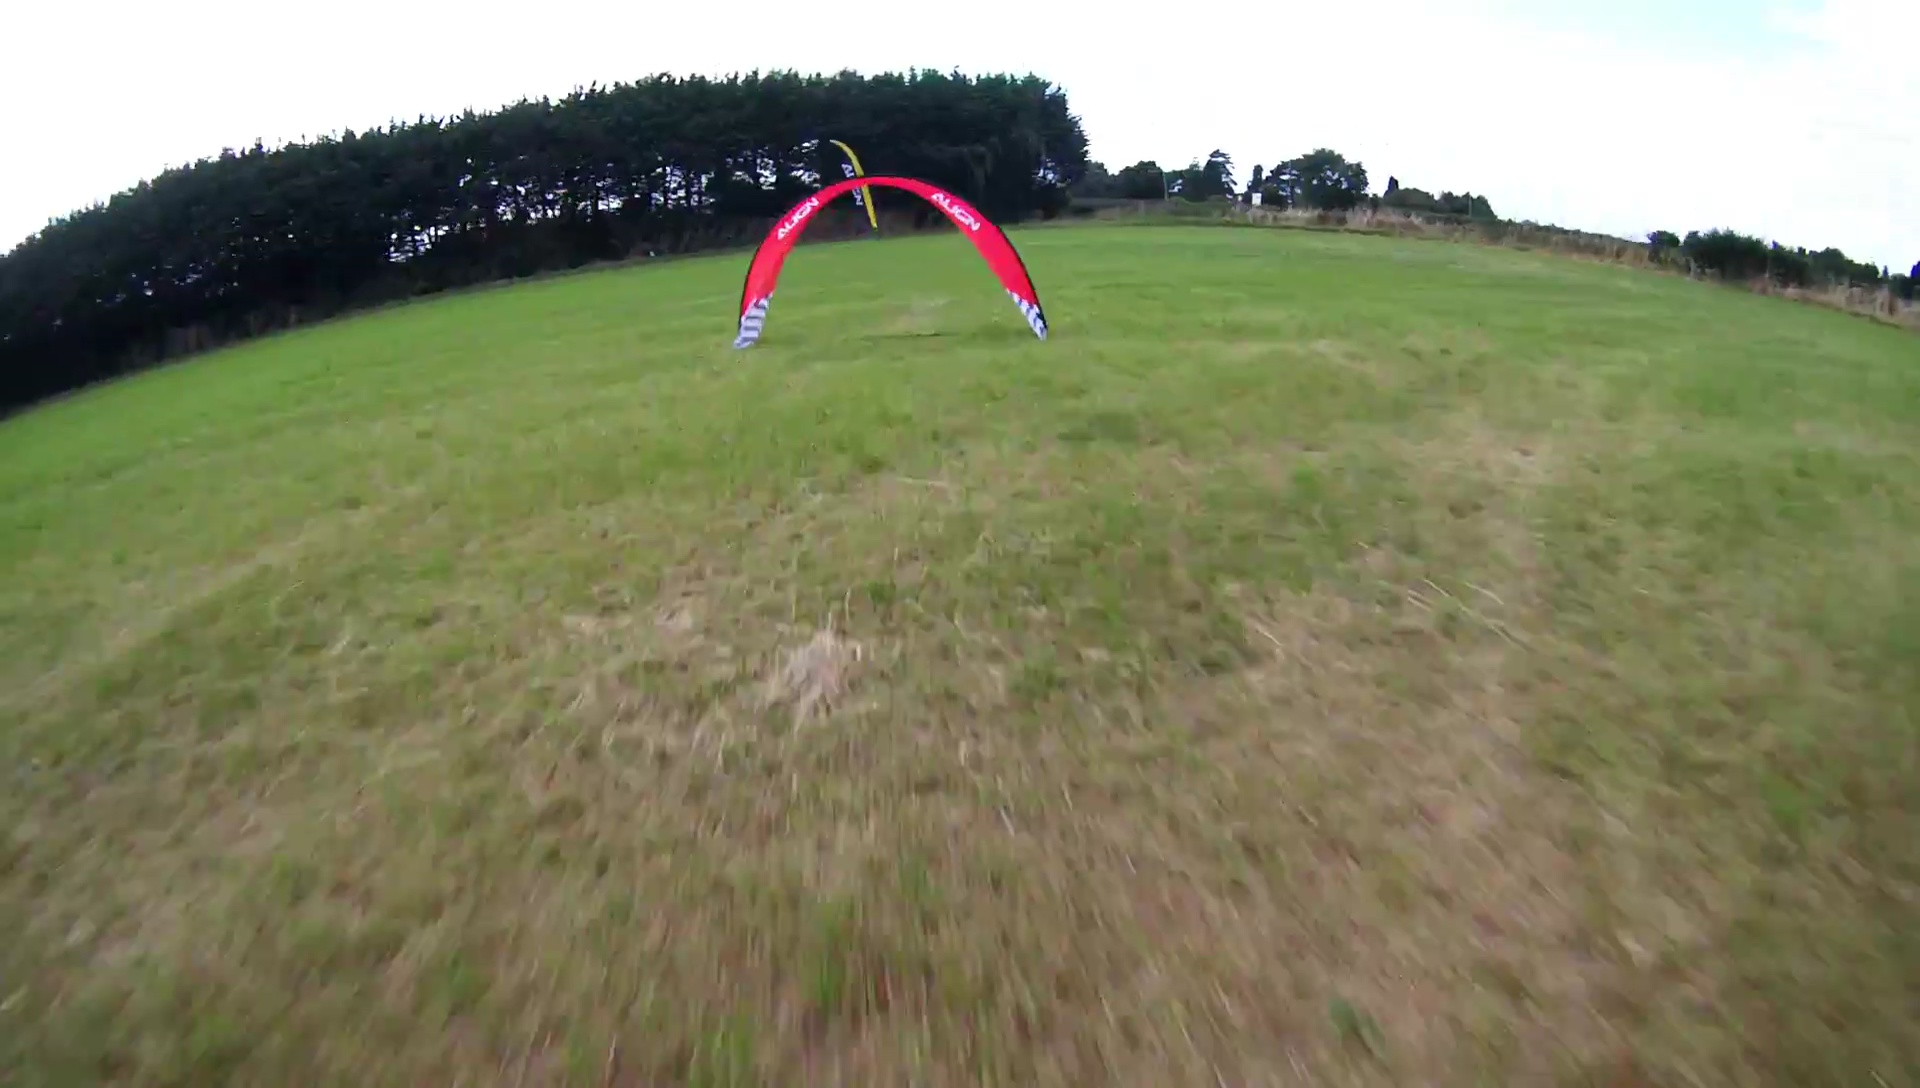gate: (731, 171, 1054, 353)
